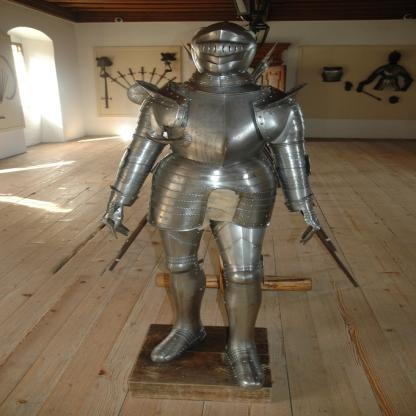Helmet: (184, 23, 262, 87)
